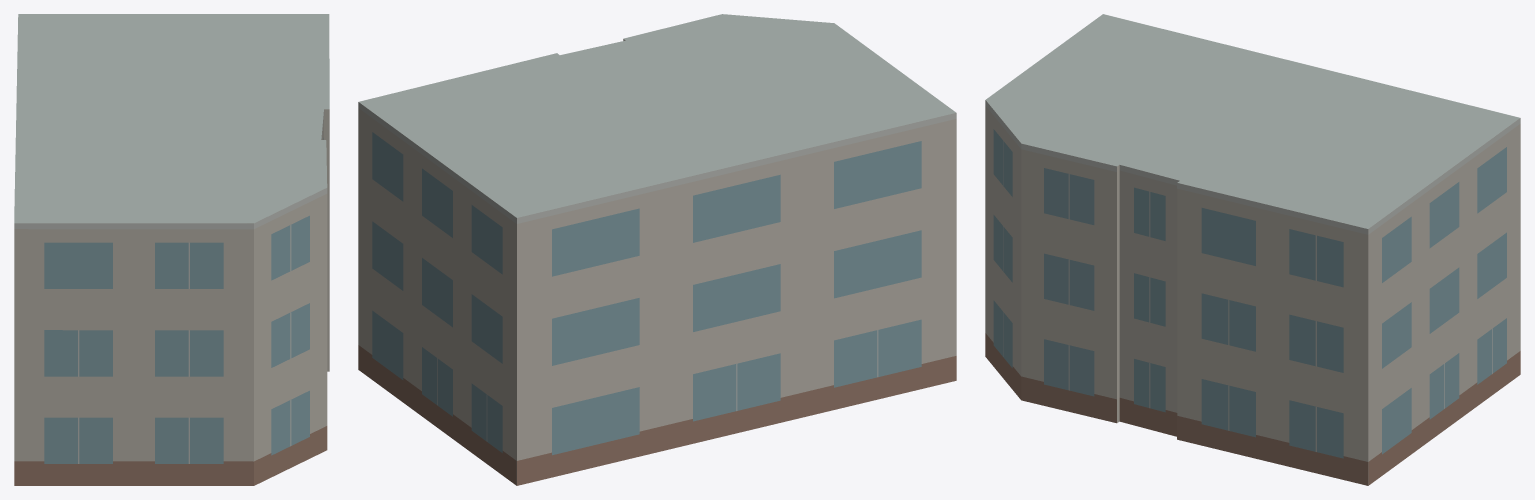
Rendered from survey-upis-32738385.glb.
3 views of the same model, side by side, from view 1: azimuth 30°, elevation 25°; view 2: azimuth 150°, elevation 25°; view 3: azimuth 270°, elevation 25° (orthographic). The views are drawn at different scales.
Visible parts, largest first — view 1: survey-upis-32738385.tmp; view 2: survey-upis-32738385.tmp; view 3: survey-upis-32738385.tmp.
Part boxes in pixels (x1,y1,x2,y2): survey-upis-32738385.tmp: (14,14,329,485); survey-upis-32738385.tmp: (358,14,956,485); survey-upis-32738385.tmp: (985,14,1520,485).
Size of the model in its own units: 19.55 by 10.88 by 20.56.
